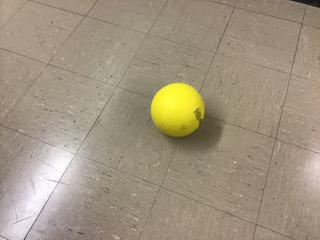power_cell: (142, 76, 213, 139)
